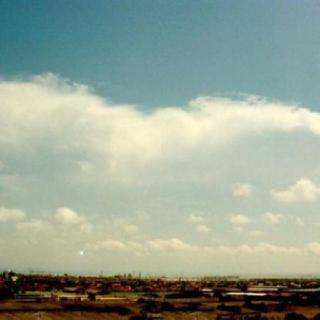Stratus: (0, 69, 320, 262)
